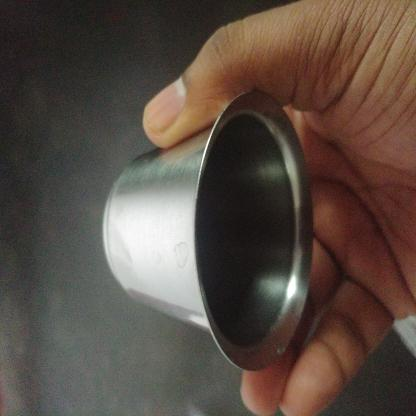cup: (65, 1, 283, 283)
